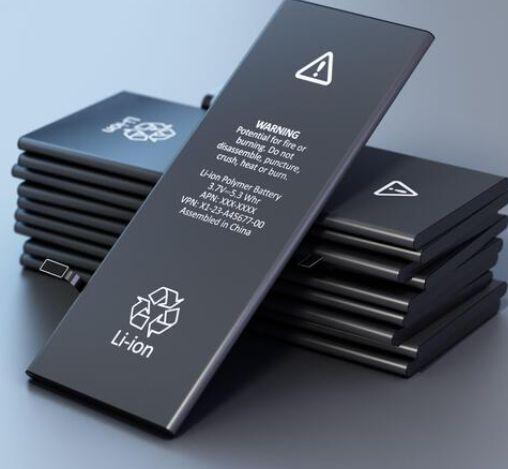battery: (26, 0, 438, 440)
